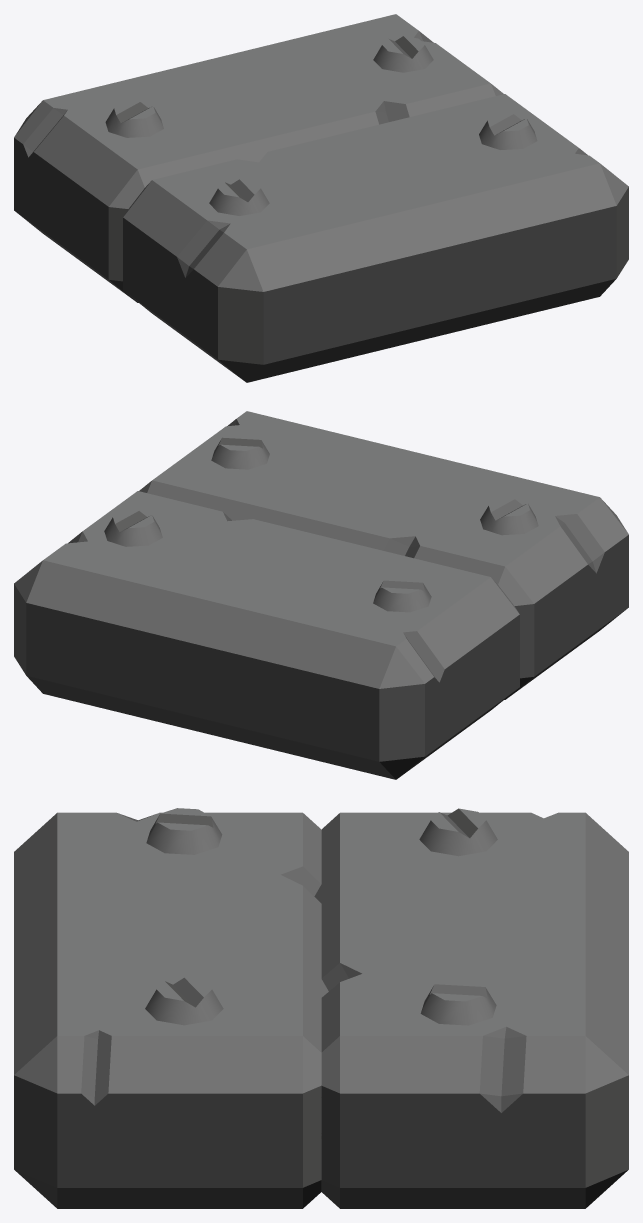
Rendered from m_kub_metalOld_floorTwoBrick.FBX.
3 views of the same model, one above another, from view 1: azimuth 30°, elevation 25°; view 2: azimuth 150°, elevation 25°; view 3: azimuth 270°, elevation 25° (orthographic). The views are drawn at different scales.
Visible parts, largest first — view 1: m_kub_metalOld_floorTwoBrick; view 2: m_kub_metalOld_floorTwoBrick; view 3: m_kub_metalOld_floorTwoBrick.
Boxes of the visible parts, x1,y1,x2,y2 form: m_kub_metalOld_floorTwoBrick: [14, 14, 628, 382]; m_kub_metalOld_floorTwoBrick: [14, 411, 628, 779]; m_kub_metalOld_floorTwoBrick: [14, 808, 628, 1208].
Size of the model in its own units: 2.18 by 0.7512 by 2.18.
